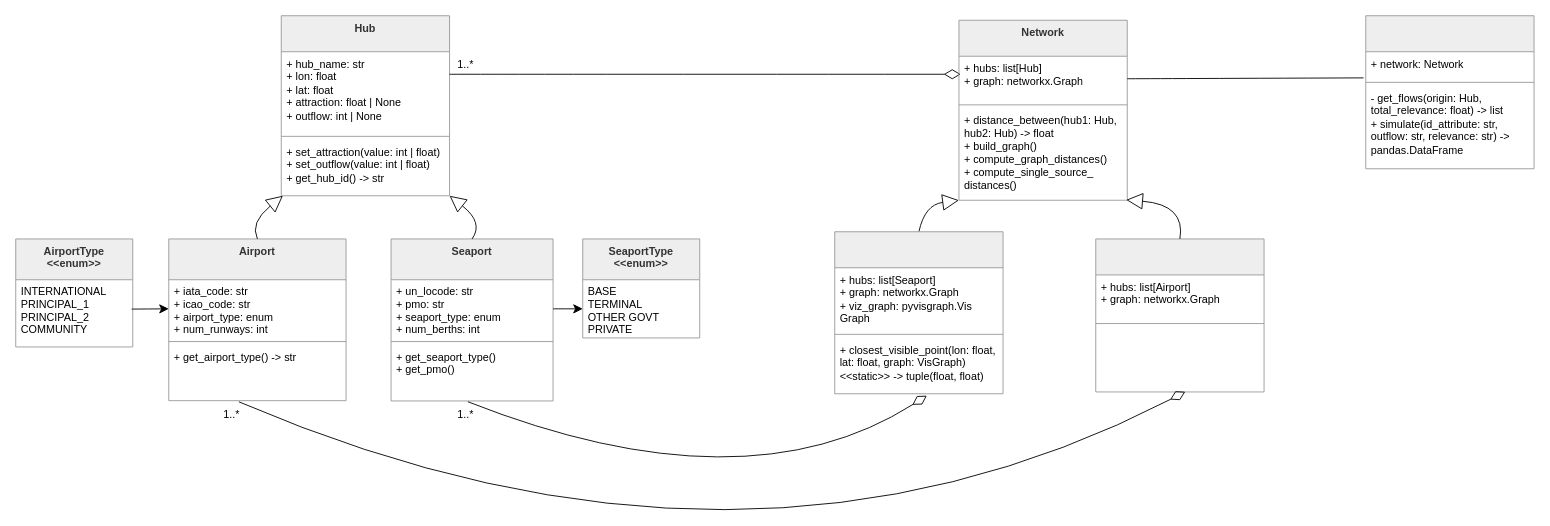
The diagram is 1550 pixels wide and 526 high, and some of its shapes have lost their labels. The box of each missing label's shape, as (x1, y1, x2, y2) in pixels:
AirNetwork: (1095, 238, 1264, 392)
Radiation: (1365, 15, 1534, 169)
SeaNetwork: (834, 231, 1003, 394)
